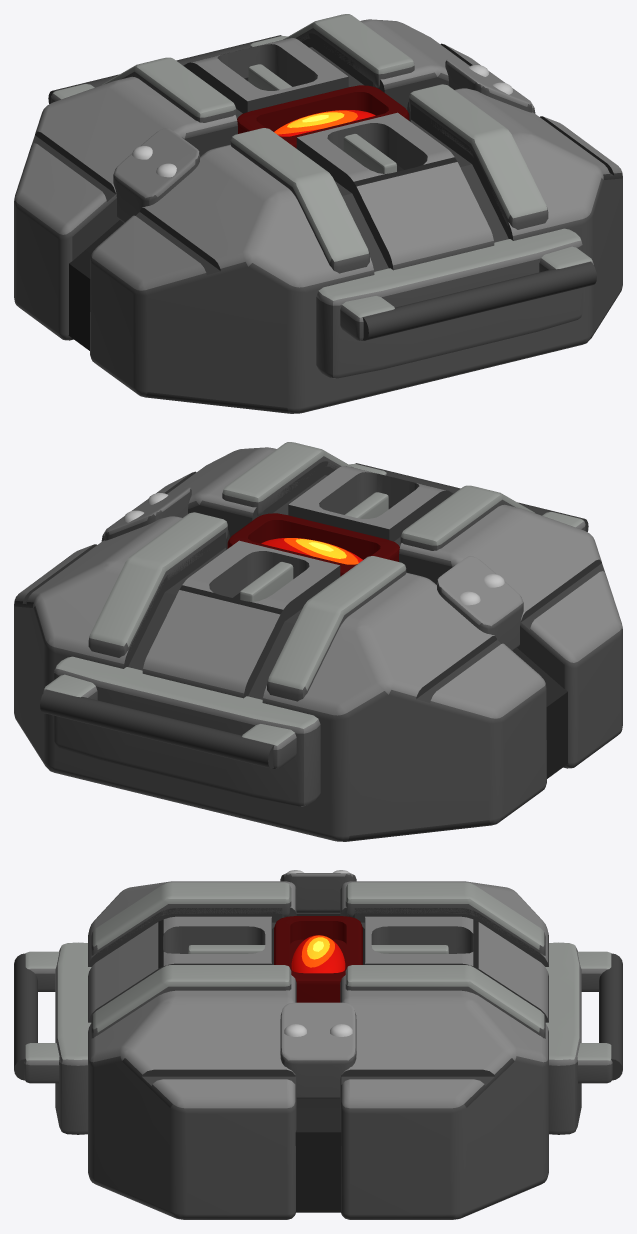
Rendered from k_pod.glb.
The picture shows the model from 3 angles, top to bottom: view 1: azimuth 30°, elevation 25°; view 2: azimuth 150°, elevation 25°; view 3: azimuth 270°, elevation 25°; orthographic projection. The views are drawn at different scales.
Visible parts, largest first — view 1: bottom_body, top_body, bottom_cap, bottom_rail1, bottom_rail0, bottom_bar, clamp0, bezel, top_rail1, top_rail0, belt, clamp1 (+6 smaller); view 2: top_body, bottom_body, top_cap, top_rail1, top_rail0, top_bar, clamp0, bezel, bottom_rail1, bottom_rail0, belt, clamp1 (+6 smaller); view 3: top_body, bottom_body, bottom_cap, top_cap, top_rail0, bottom_rail0, clamp1, belt, bottom_rail1, top_rail1, bezel, bottom_bar (+9 smaller).
Boxes of the visible parts, <box> form: bottom_body: <box>90,88,622,413</box>; top_body: <box>14,19,535,340</box>; bottom_cap: <box>316,228,582,378</box>; bottom_rail1: <box>409,84,548,229</box>; bottom_rail0: <box>230,128,369,273</box>; bottom_bar: <box>362,261,596,340</box>; clamp0: <box>113,128,199,222</box>; bezel: <box>237,85,409,148</box>; top_rail1: <box>283,14,414,87</box>; top_rail0: <box>102,57,236,122</box>; belt: <box>68,220,123,350</box>; clamp1: <box>445,59,531,112</box>; top_body: <box>14,516,546,841</box>; bottom_body: <box>101,447,622,768</box>; top_cap: <box>54,656,320,806</box>; top_rail1: <box>88,512,227,657</box>; top_rail0: <box>267,556,406,701</box>; top_bar: <box>40,689,274,768</box>; clamp0: <box>437,556,523,650</box>; bezel: <box>227,513,399,576</box>; bottom_rail1: <box>222,442,353,515</box>; bottom_rail0: <box>400,485,534,550</box>; belt: <box>513,648,568,778</box>; clamp1: <box>105,487,191,540</box>; top_body: <box>340,881,548,1219</box>; bottom_body: <box>88,881,296,1219</box>; bottom_cap: <box>55,942,91,1134</box>; top_cap: <box>545,942,581,1134</box>; top_rail0: <box>345,882,545,955</box>; bottom_rail0: <box>91,882,291,955</box>; clamp1: <box>280,1002,356,1098</box>; belt: <box>295,914,341,1212</box>; bottom_rail1: <box>91,965,291,1038</box>; top_rail1: <box>345,965,545,1038</box>; bezel: <box>274,916,362,1002</box>; bottom_bar: <box>14,953,37,1080</box>.
Bounding box in the file's own units: 24 × 9.5 × 28.
